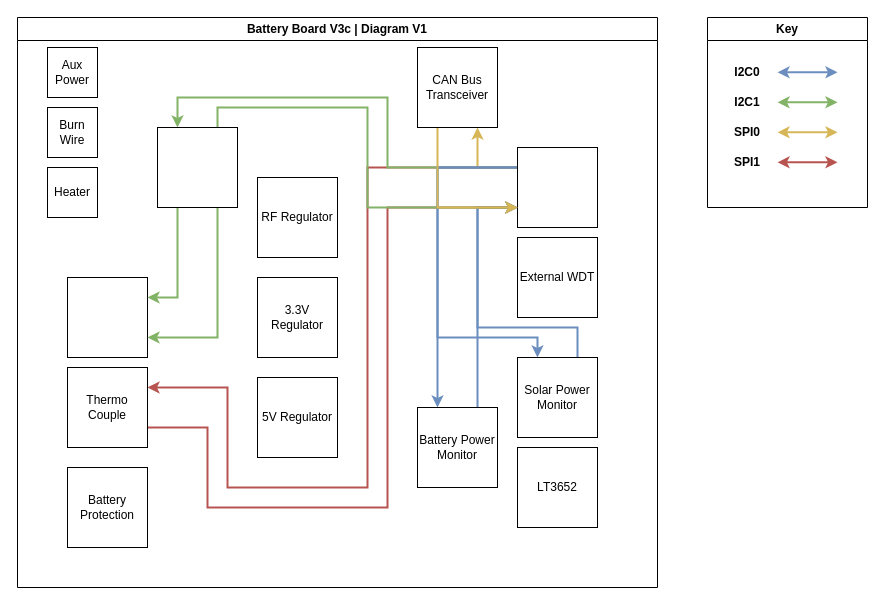
The diagram is 885 pixels wide and 605 high, and some of its shapes have lost their labels. The centre of each missing label's shape, as x and y in pixels:
PCT Temperature Sensor: the point at 107,317
Real Time Clock: the point at 197,167
RP2040: the point at 557,187
